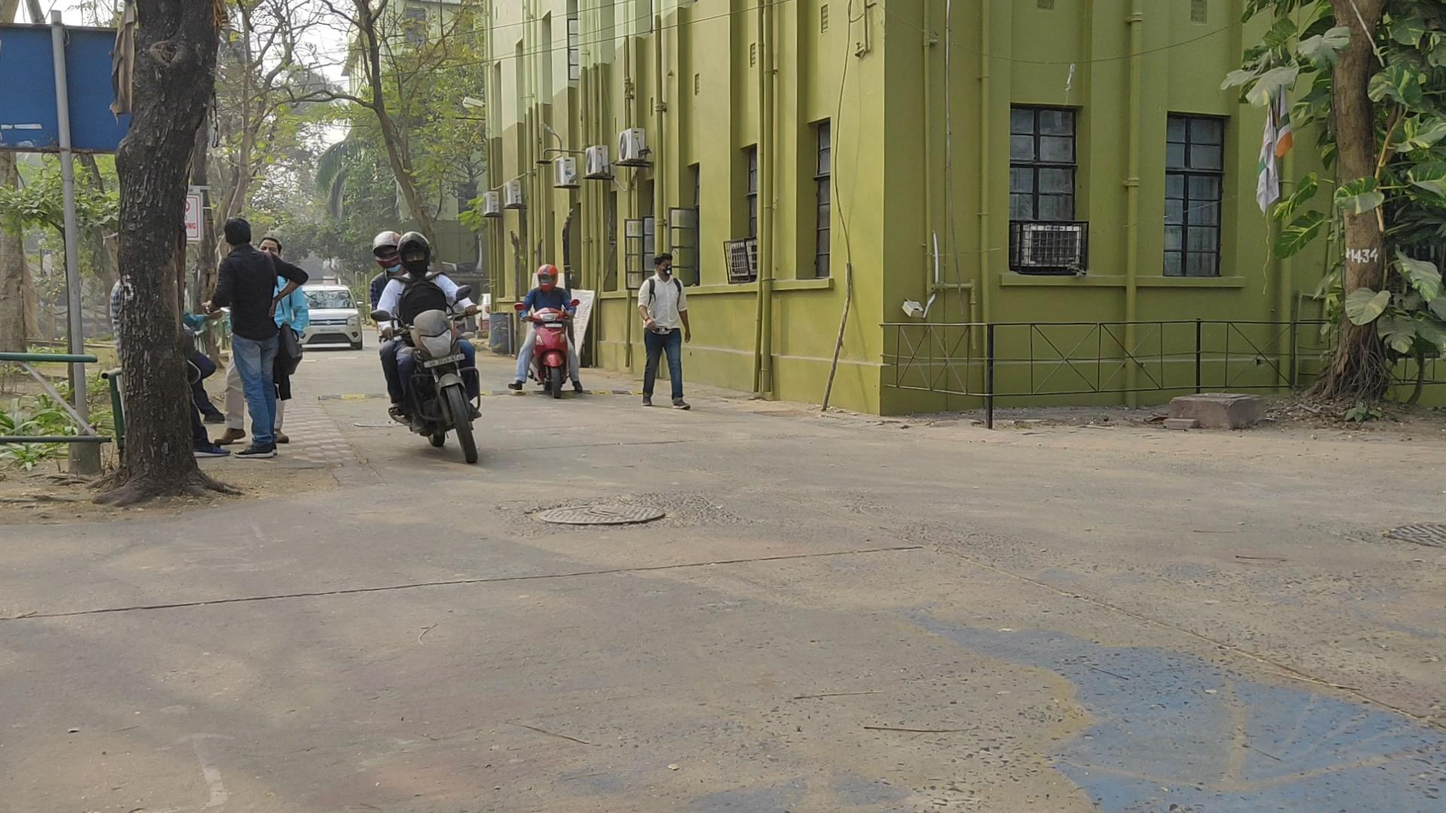bike: (368, 226, 485, 469), (511, 262, 591, 400)
car: (291, 285, 366, 351)
